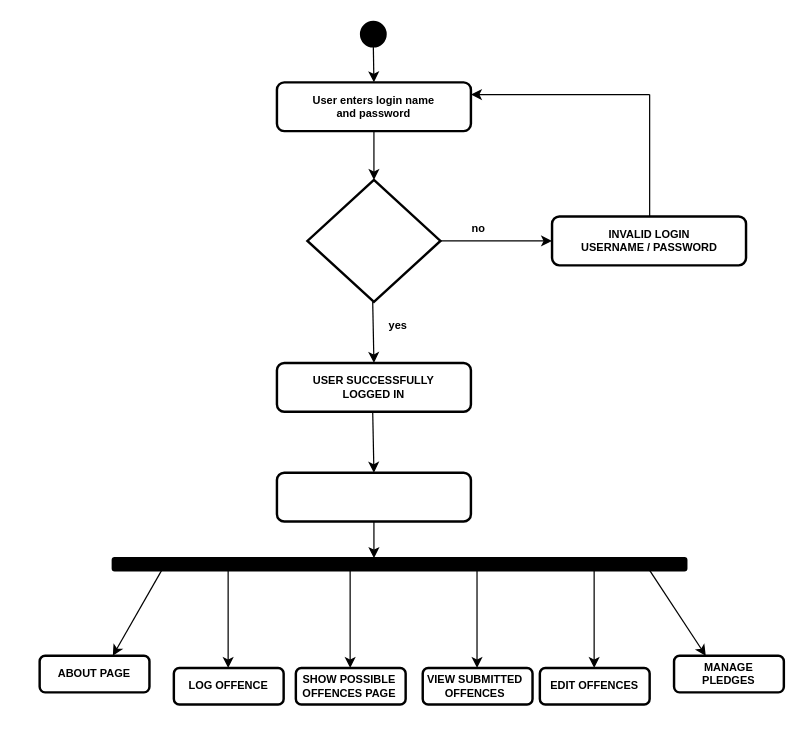
This 805x732 diagram has some shape labels left out. The shapes that lost their labels are listed below. From the top down, each one's box as (x1, y1, x2, y2) in pixels, then its label:
(306, 178, 441, 303): CORRECT LOGIN AND PASSWORD
(275, 471, 472, 522): MENU PAGE
